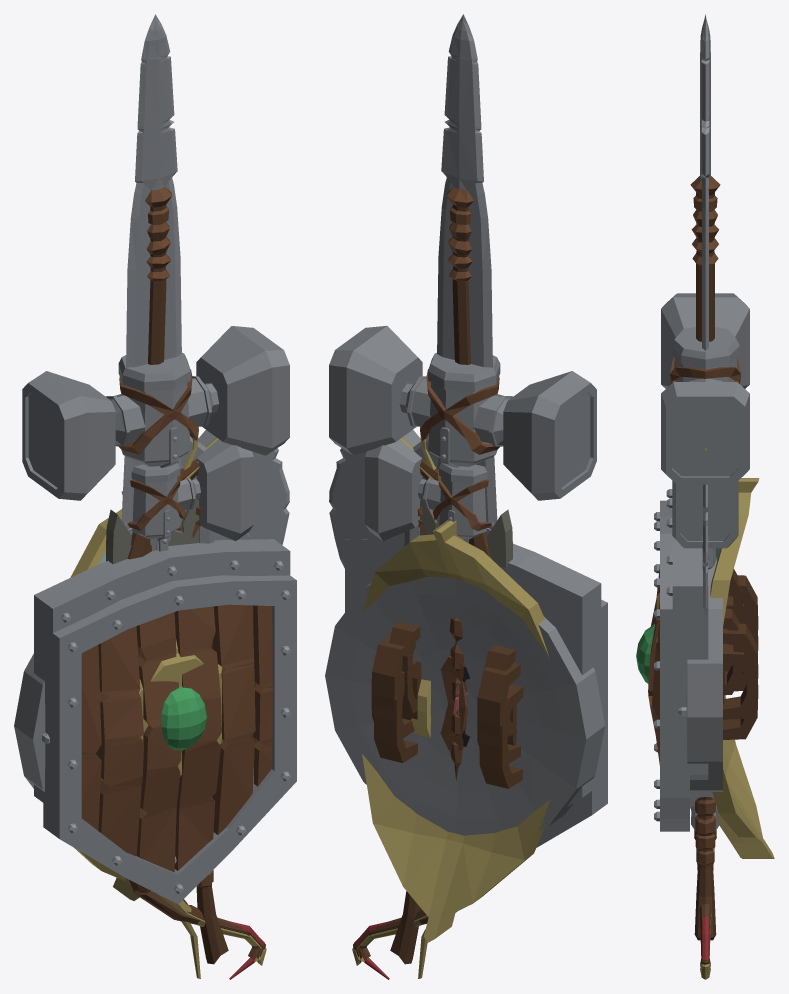
Rendered from arsenal.glb.
The picture shows the model from 3 angles, left to right: view 1: azimuth 30°, elevation 25°; view 2: azimuth 150°, elevation 25°; view 3: azimuth 270°, elevation 25°; orthographic projection. The views are drawn at different scales.
Visible parts, largest first — view 1: shield_heater2, maul, shield_heater, hammer, spear, greatsword, shield_celtic, greataxe, shield_round, claymore, bow2, goldbow; view 2: shield_round, maul, shield_celtic, shield_round2, shield_heater, spear, hammer, greatsword, greataxe, shield_heater2, goldbow, claymore (+2 smaller); view 3: maul, shield_heater2, shield_round2, shield_celtic, shield_heater, spear, hammer, greataxe, shield_round, greatsword, evilbow.
Part boxes in pixels (bbox=[...]): shield_heater2: bbox=[43, 575, 296, 904]; maul: bbox=[22, 326, 289, 551]; shield_heater: bbox=[34, 539, 290, 863]; hammer: bbox=[127, 430, 253, 550]; spear: bbox=[135, 14, 177, 364]; greatsword: bbox=[121, 177, 182, 535]; shield_celtic: bbox=[70, 491, 222, 900]; greataxe: bbox=[124, 448, 289, 964]; shield_round: bbox=[14, 653, 49, 791]; claymore: bbox=[106, 499, 199, 564]; bow2: bbox=[127, 458, 265, 957]; goldbow: bbox=[151, 426, 266, 978]; shield_round: bbox=[325, 577, 605, 835]; maul: bbox=[329, 325, 596, 780]; shield_celtic: bbox=[362, 520, 550, 942]; shield_round2: bbox=[327, 583, 585, 834]; shield_heater: bbox=[345, 539, 601, 806]; spear: bbox=[441, 14, 483, 364]; hammer: bbox=[365, 430, 491, 541]; greatsword: bbox=[436, 177, 497, 535]; greataxe: bbox=[329, 448, 494, 964]; shield_heater2: bbox=[402, 599, 607, 847]; goldbow: bbox=[352, 426, 467, 978]; claymore: bbox=[419, 499, 512, 715]; maul: bbox=[661, 293, 749, 831]; shield_heater2: bbox=[648, 500, 724, 831]; shield_round2: bbox=[678, 557, 758, 798]; shield_celtic: bbox=[636, 478, 774, 858]; shield_heater: bbox=[666, 489, 743, 808]; spear: bbox=[690, 14, 720, 839]; hammer: bbox=[672, 480, 738, 548]; greataxe: bbox=[694, 484, 716, 940]; shield_round: bbox=[686, 596, 758, 798]; greatsword: bbox=[702, 177, 708, 350]; evilbow: bbox=[701, 917, 709, 960].
Size of the model in its own units: 0.6324 by 2.23 by 0.3038.
